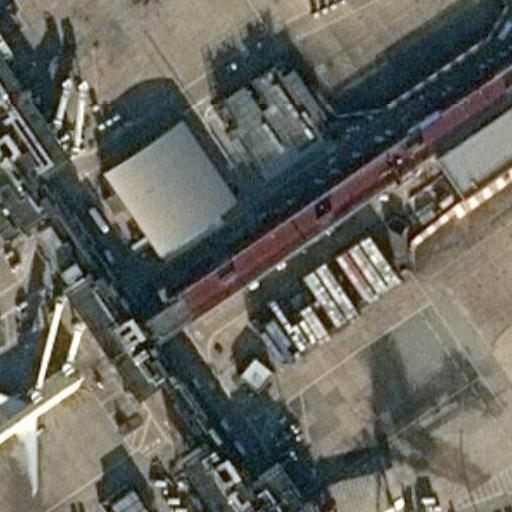Aircraft: (0, 365, 89, 495)
